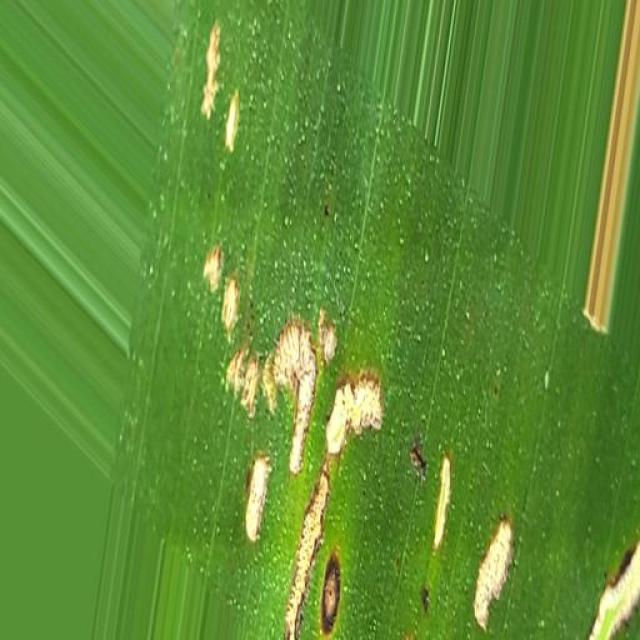Black_rot: (182, 6, 640, 640)
